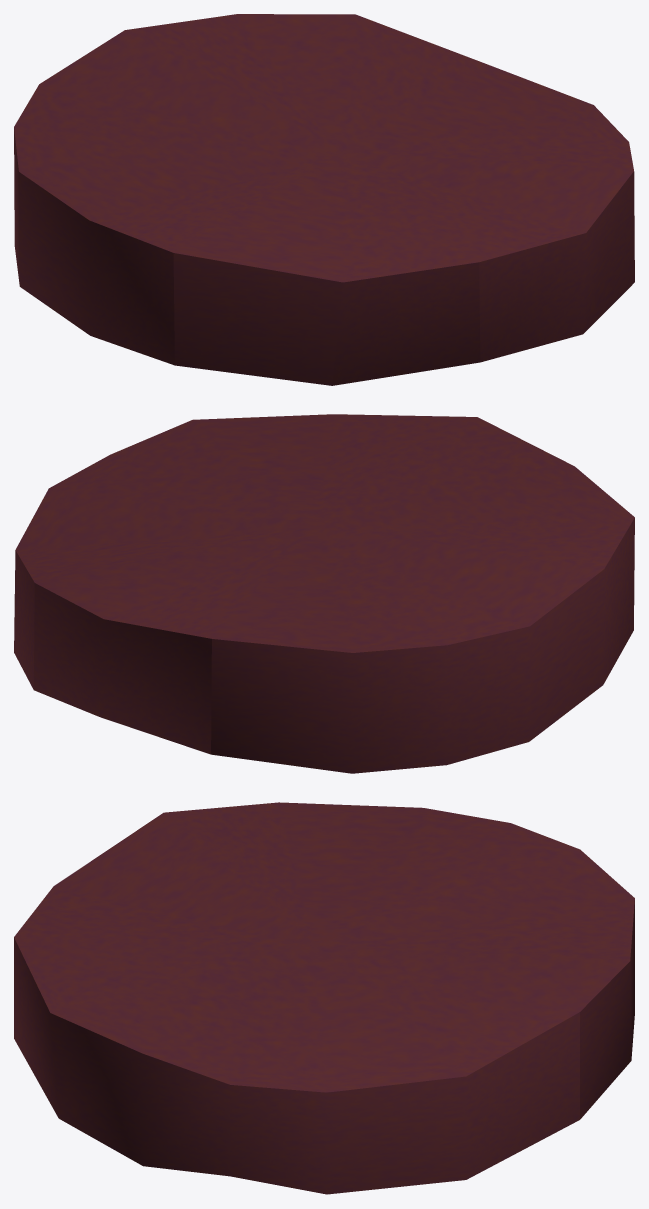
Rendered from patty.fbx.
3 renders of one model, top to bottom at view 1: azimuth 30°, elevation 25°; view 2: azimuth 150°, elevation 25°; view 3: azimuth 270°, elevation 25°, orthographic.
Parts seen in each view (by area): view 1: patty; view 2: patty; view 3: patty.
Part boxes in pixels (x1=…): patty: x1=14, y1=14, x2=634, y2=385; patty: x1=14, y1=414, x2=634, y2=773; patty: x1=14, y1=802, x2=634, y2=1194.
Size of the model in its own units: 25.1 by 6.51 by 25.4.
Materials: 1 (1 with a texture image).
